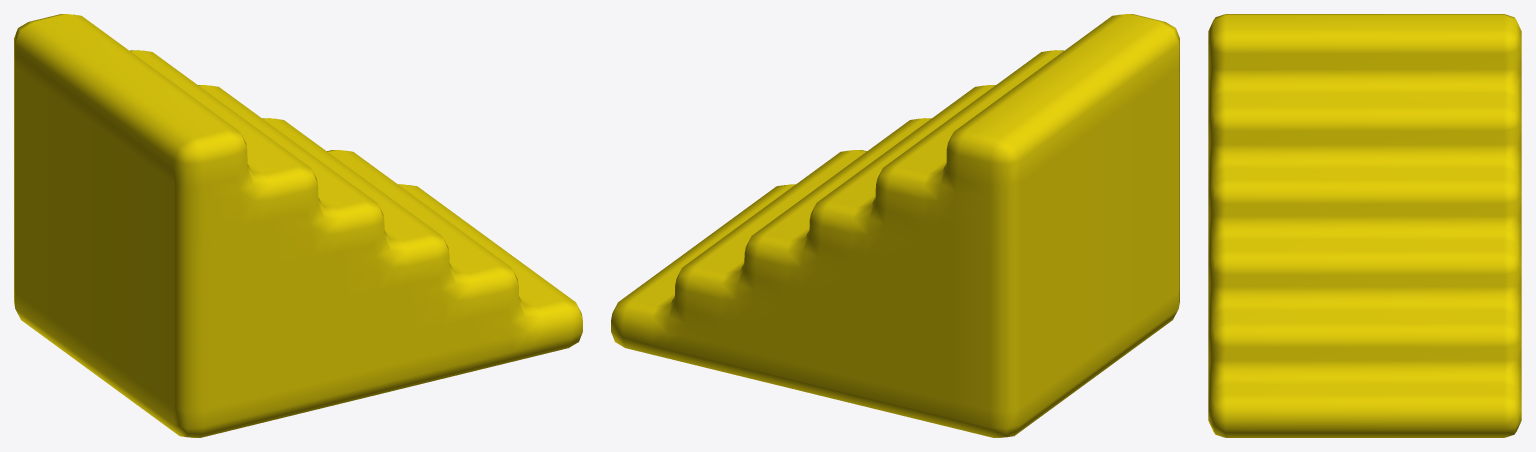
The model's file is StairsYellow.fbx.
3 views of the same model, side by side, from view 1: azimuth 30°, elevation 25°; view 2: azimuth 150°, elevation 25°; view 3: azimuth 270°, elevation 25° (orthographic). The views are drawn at different scales.
Visible parts, largest first — view 1: pCube2; view 2: pCube2; view 3: pCube2.
Part boxes in pixels (x1,y1,x2,y2): pCube2: [14, 14, 582, 437]; pCube2: [611, 14, 1179, 437]; pCube2: [1208, 14, 1521, 437].
Size of what is drawn, in the model's own units: 7.99 by 5.62 by 6.05.
